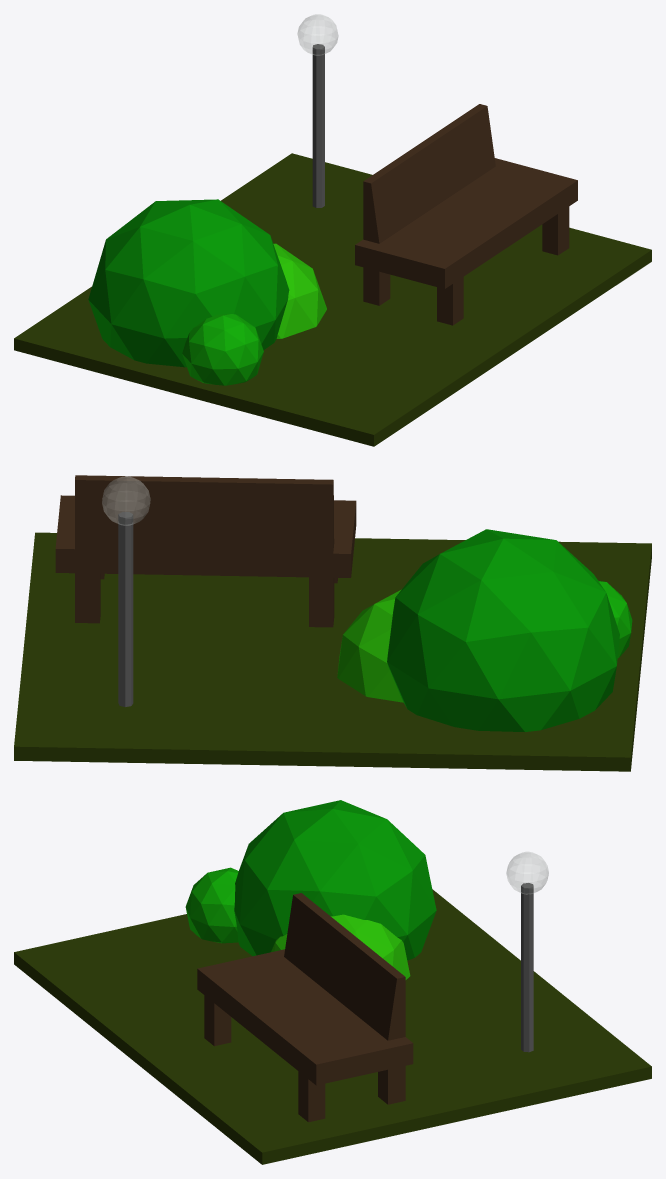
Rendered from night.gltf.
3 views of the same model, one above another, from view 1: azimuth 30°, elevation 25°; view 2: azimuth 150°, elevation 25°; view 3: azimuth 270°, elevation 25° (orthographic). The views are drawn at different scales.
Visible parts, largest first — view 1: Cube, Cube.001, Icosphere, Icosphere.002, Icosphere.001, Cylinder, Sphere; view 2: Cube, Icosphere, Cube.001, Icosphere.001, Cylinder, Sphere, Icosphere.002; view 3: Cube, Cube.001, Icosphere, Icosphere.002, Cylinder, Icosphere.001, Sphere.
Part boxes in pixels (left/top/right/bottom): Cube: left=14, top=153, right=651, bottom=446; Cube.001: left=355, top=104, right=577, bottom=325; Icosphere: left=88, top=199, right=289, bottom=367; Icosphere.002: left=182, top=314, right=263, bottom=385; Icosphere.001: left=273, top=243, right=326, bottom=338; Cylinder: left=312, top=44, right=324, bottom=207; Sphere: left=297, top=14, right=338, bottom=55; Cube: left=14, top=532, right=651, bottom=771; Icosphere: left=387, top=529, right=619, bottom=731; Cube.001: left=55, top=475, right=356, bottom=627; Icosphere.001: left=337, top=589, right=403, bottom=702; Cylinder: left=118, top=512, right=133, bottom=706; Sphere: left=102, top=476, right=150, bottom=525; Icosphere.002: left=598, top=580, right=632, bottom=657; Cube: left=14, top=889, right=651, bottom=1164; Cube.001: left=197, top=893, right=413, bottom=1122; Icosphere: left=234, top=800, right=436, bottom=960; Icosphere.002: left=185, top=867, right=238, bottom=943; Cylinder: left=521, top=883, right=533, bottom=1052; Icosphere.001: left=271, top=914, right=410, bottom=979; Sphere: left=506, top=852, right=548, bottom=894.
Size of the model in its own units: 1.14 by 0.4886 by 1.07.
